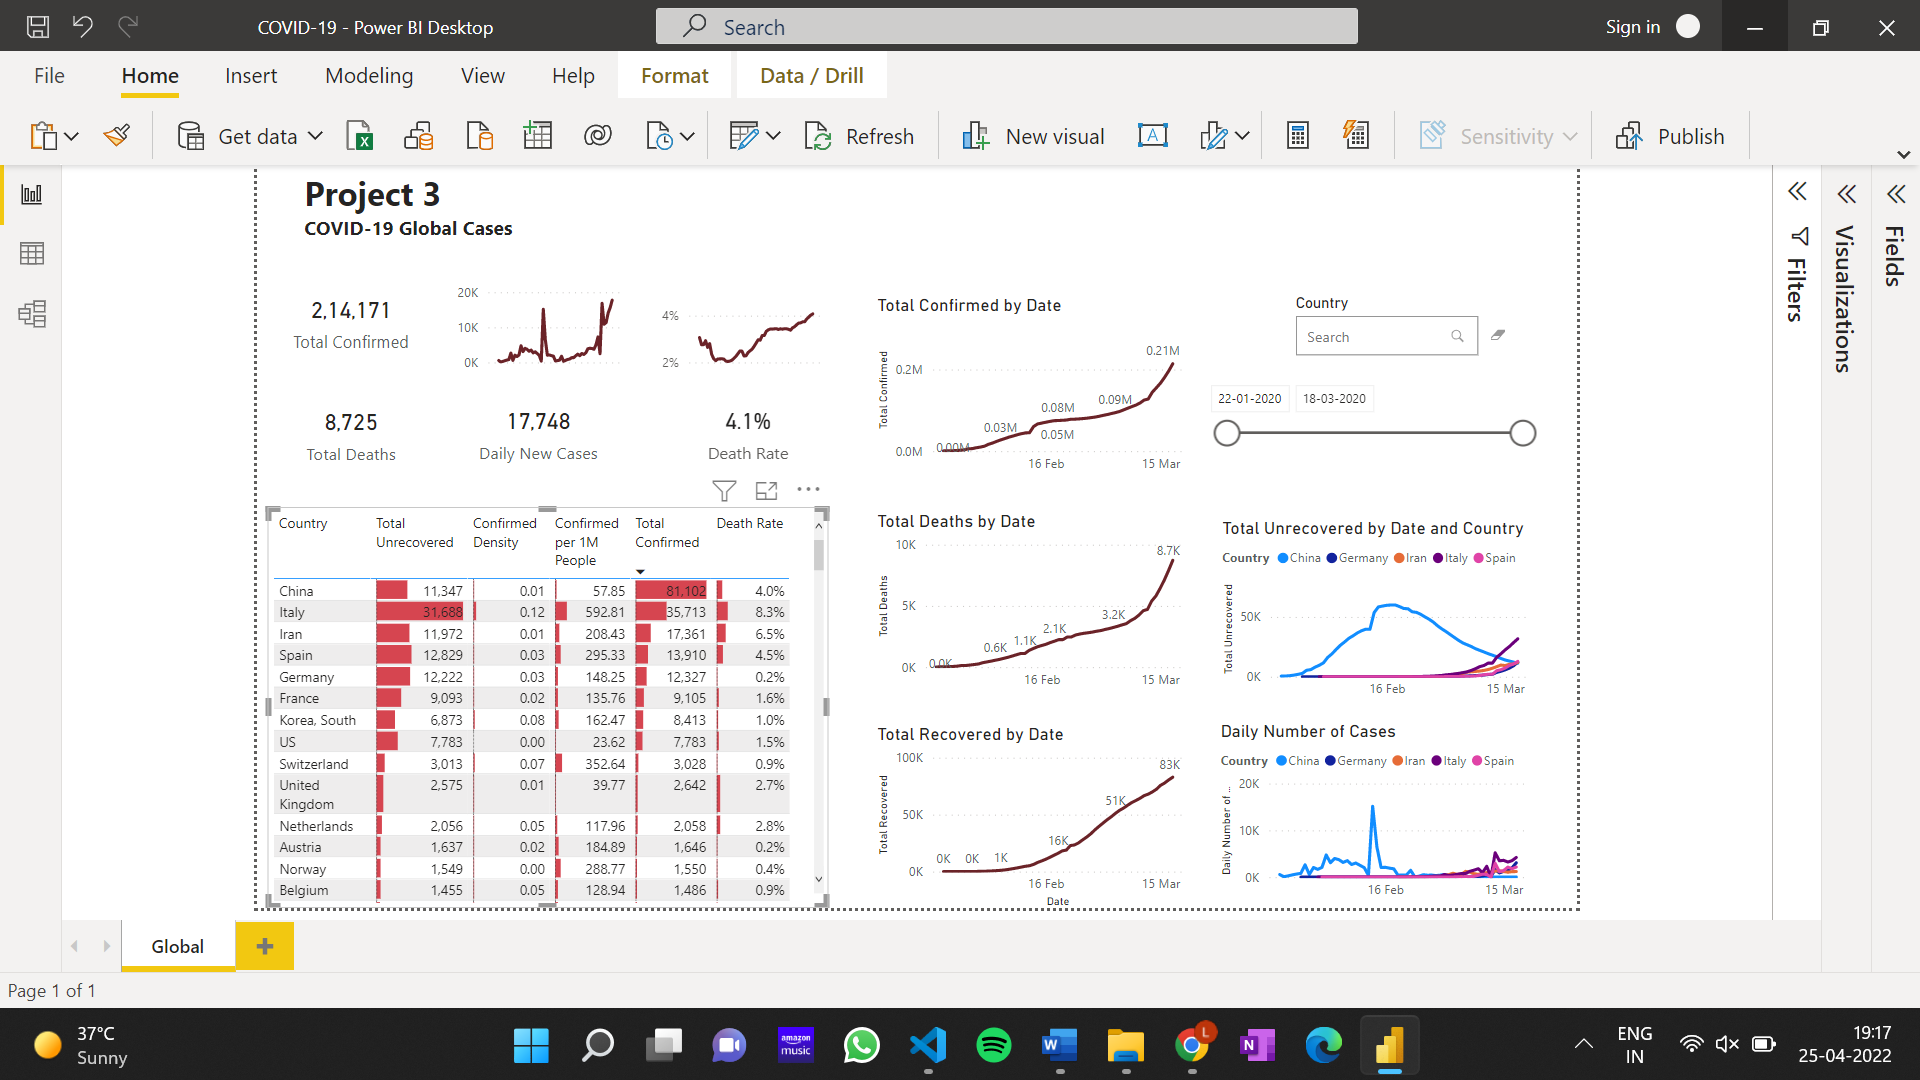

The page's visual inventory and layout, read from the dashboard file:
{"tool":"powerbi","page":{"name":"Global","canvas":[1280,720],"ordinal":0},"visuals":[{"type":"lineChart","fields":{"Y":["Covid-19 Cases.Total Recovered"],"Category":["Calendar.Date"]},"box":[596.4,540.4,315.6,183.1],"z":0},{"type":"textbox","box":[70,20.4,380,67.1],"z":1000},{"type":"lineChart","fields":{"Y":["Covid-19 Cases.Total Confirmed"],"Category":["Calendar.Date"]},"box":[596.4,125.3,315.6,182.2],"z":2000},{"type":"lineChart","fields":{"Y":["Covid-19 Cases.Total Deaths"],"Category":["Calendar.Date"]},"box":[596.4,334.2,315.6,182.2],"z":3000},{"type":"lineChart","title":"Daily Number of Cases","fields":{"Series":["World Population.Country"],"Y":["Covid-19 Cases.Recovery Rate"],"Category":["Calendar.Date"]},"box":[929.8,537.8,315.6,182.2],"z":5000},{"type":"textFilter25A4896A83E0487089E2B90C9AE57C8A","fields":{"field":["World Population.Country"]},"box":[1001.5,124.6,224.9,68],"z":6000},{"type":"slicer","fields":{"Values":["Covid-19 Cases.Date"]},"box":[912.5,203.9,336.5,90.6],"z":7000},{"type":"lineChart","fields":{"Series":["World Population.Country"],"Y":["Covid-19 Cases.Total Unrecovered"],"Category":["Calendar.Date"]},"box":[930.3,341.4,315.5,184.4],"z":8000},{"type":"tableEx","fields":{"Values":["World Population.Country","Covid-19 Cases.Total Unrecovered","Covid-19 Cases.Confirmed per Pop. Density","Covid-19 Cases.Confirmed per Capita","Covid-19 Cases.Total Confirmed","Covid-19 Cases.Death Rate"]},"box":[9.8,331.6,544,388.4],"z":9000},{"type":"card","fields":{"Values":["Covid-19 Cases.Total Confirmed"]},"box":[16,109.3,150.2,82.7],"z":10000},{"type":"card","fields":{"Values":["Covid-19 Cases.Daily Number of Cases"]},"box":[198.3,216.7,149.7,83.6],"z":11000},{"type":"card","fields":{"Values":["Covid-19 Cases.Total Deaths"]},"box":[16.5,217.7,150.6,81.6],"z":12000},{"type":"card","fields":{"Values":["Covid-19 Cases.Death Rate"]},"box":[401.4,216.7,148.7,83.6],"z":13000},{"type":"image","box":[0,9.7,70,77.8],"z":15000},{"type":"lineChart","title":"Daily Number of Cases","fields":{"Y":["Covid-19 Cases.Recovery Rate"],"Category":["Calendar.Date"]},"box":[188.5,108.9,170.1,96.2],"z":16000},{"type":"lineChart","title":"Daily Number of Cases","fields":{"Y":["Covid-19 Cases.Death Rate"],"Category":["Calendar.Date"]},"box":[386.8,108.9,167.2,96.2],"z":17000}]}

Visuals, with their boxes on the page's 1280x720 design canvas (x1, y1, x2, y2). These are canvas units, not pixel positions in the 1920x1080 screenshot, which may show the page scaled, cropped or inside an application window:
lineChart - Covid-19 Cases.Total Recovered x Calendar.Date: (596, 540, 912, 724)
textbox: (70, 20, 450, 88)
lineChart - Covid-19 Cases.Total Confirmed x Calendar.Date: (596, 125, 912, 308)
lineChart - Covid-19 Cases.Total Deaths x Calendar.Date: (596, 334, 912, 516)
"Daily Number of Cases" lineChart: (930, 538, 1245, 720)
textFilter25A4896A83E0487089E2B90C9AE57C8A - World Population.Country: (1002, 125, 1226, 193)
slicer - Covid-19 Cases.Date: (912, 204, 1249, 294)
lineChart - World Population.Country x Covid-19 Cases.Total Unrecovered: (930, 341, 1246, 526)
tableEx - World Population.Country x Covid-19 Cases.Total Unrecovered: (10, 332, 554, 720)
card - Covid-19 Cases.Total Confirmed: (16, 109, 166, 192)
card - Covid-19 Cases.Daily Number of Cases: (198, 217, 348, 300)
card - Covid-19 Cases.Total Deaths: (16, 218, 167, 299)
card - Covid-19 Cases.Death Rate: (401, 217, 550, 300)
image: (0, 10, 70, 88)
"Daily Number of Cases" lineChart: (188, 109, 359, 205)
"Daily Number of Cases" lineChart: (387, 109, 554, 205)
